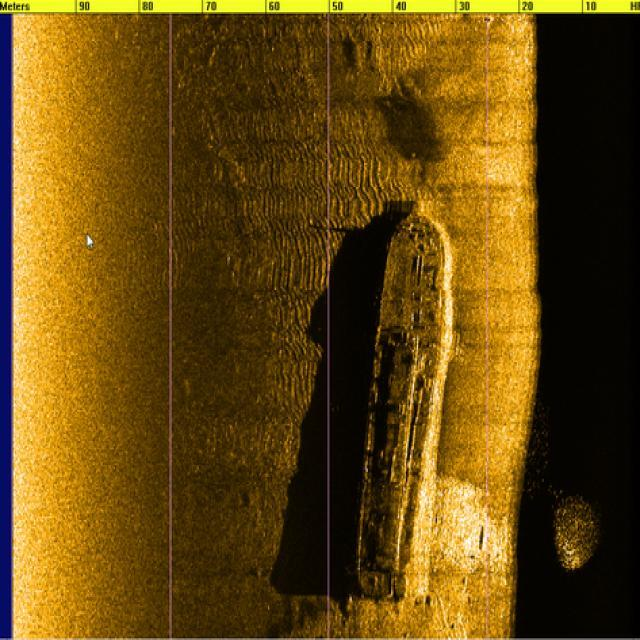shipwreck: (337, 195, 464, 612)
